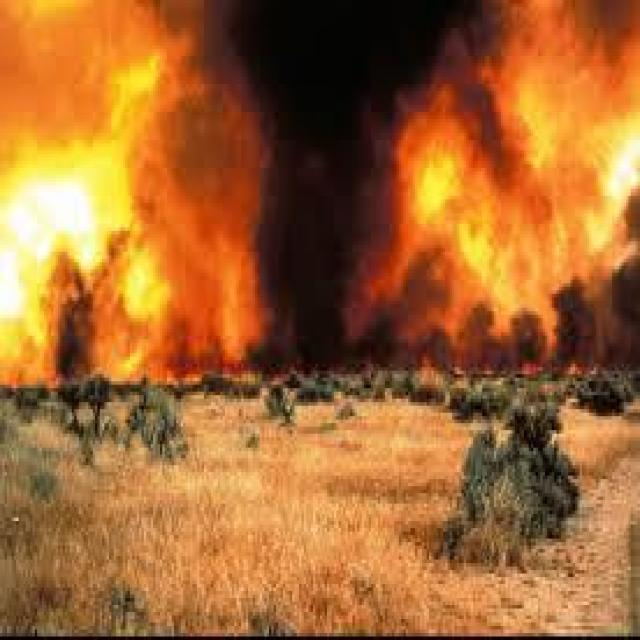fire: (11, 32, 267, 372), (415, 11, 633, 367)
smoke: (241, 17, 426, 421)
